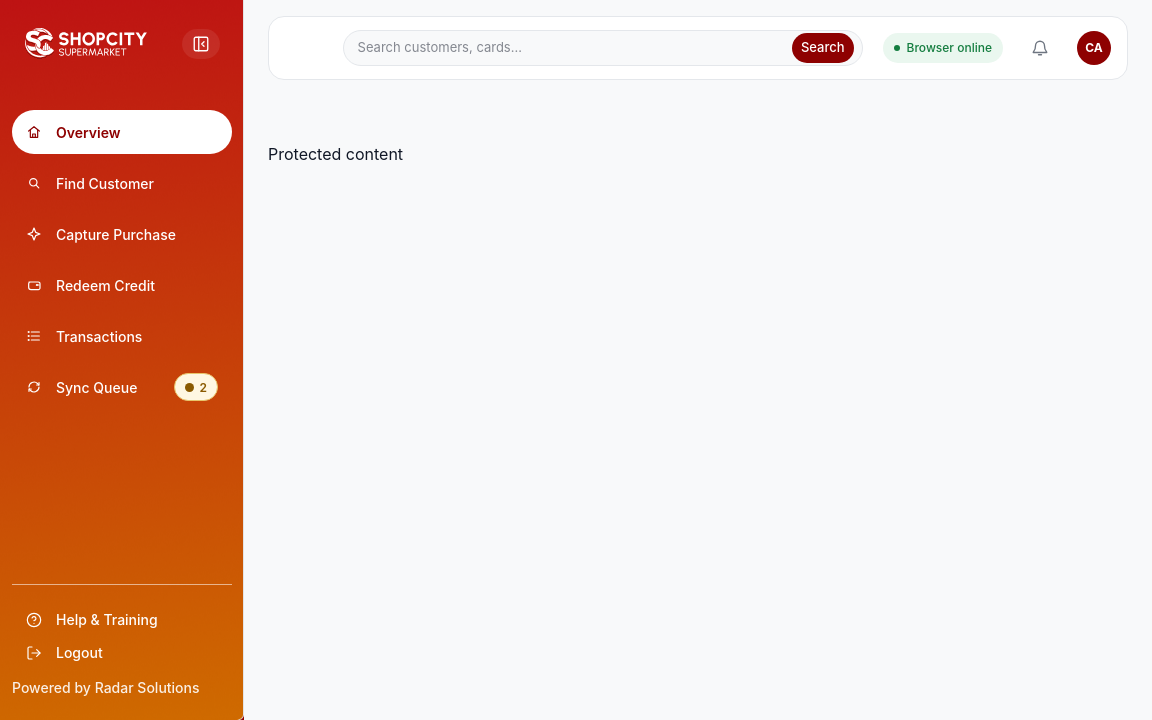
Test: AppShell › toggles and persists the accessible sidebar collapse control
Expected: the text "Protected content" is shown, [268,144,403,164]
Click the button named "Collapse sidebar" at (201, 44), box [182,29,220,59]
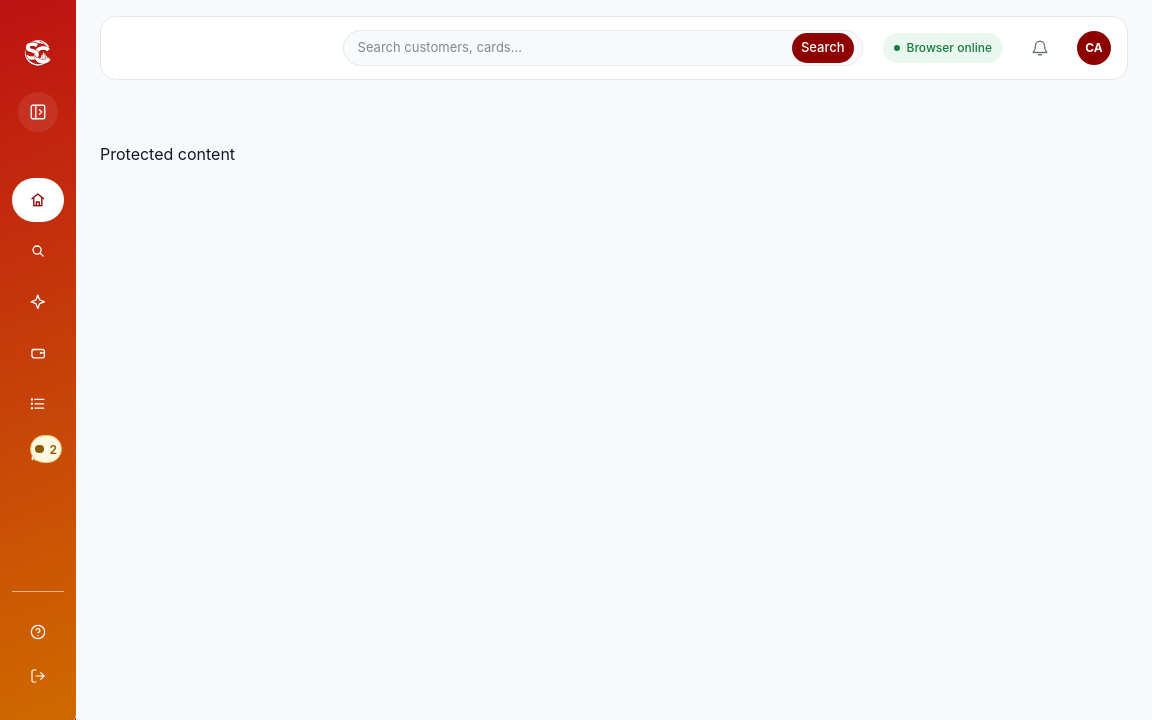
Expected: the button named "Expand sidebar" is collapsed
Click the button named "Expand sidebar" at (38, 112), box [18,92,58,132]
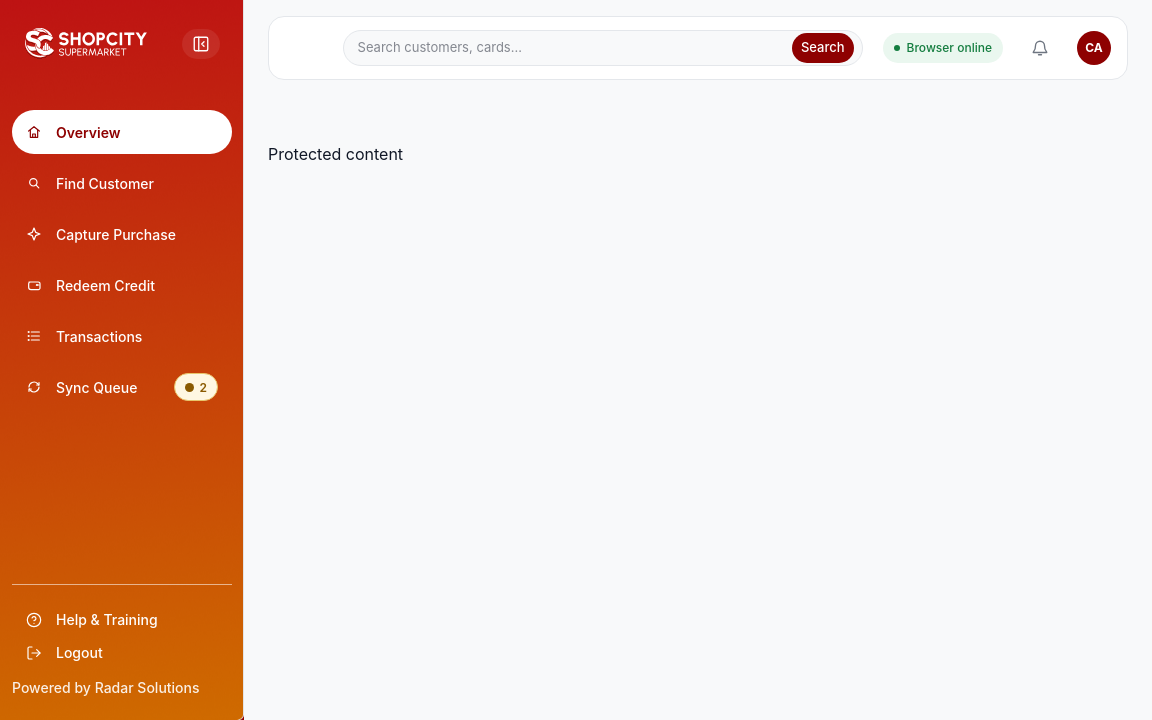
Expected: the button named "Collapse sidebar" is expanded, [182,29,220,59]
